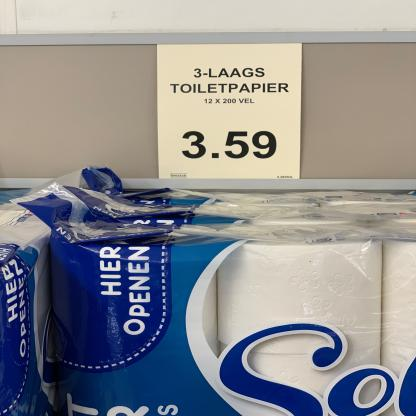prtg: (158, 44, 303, 180)
